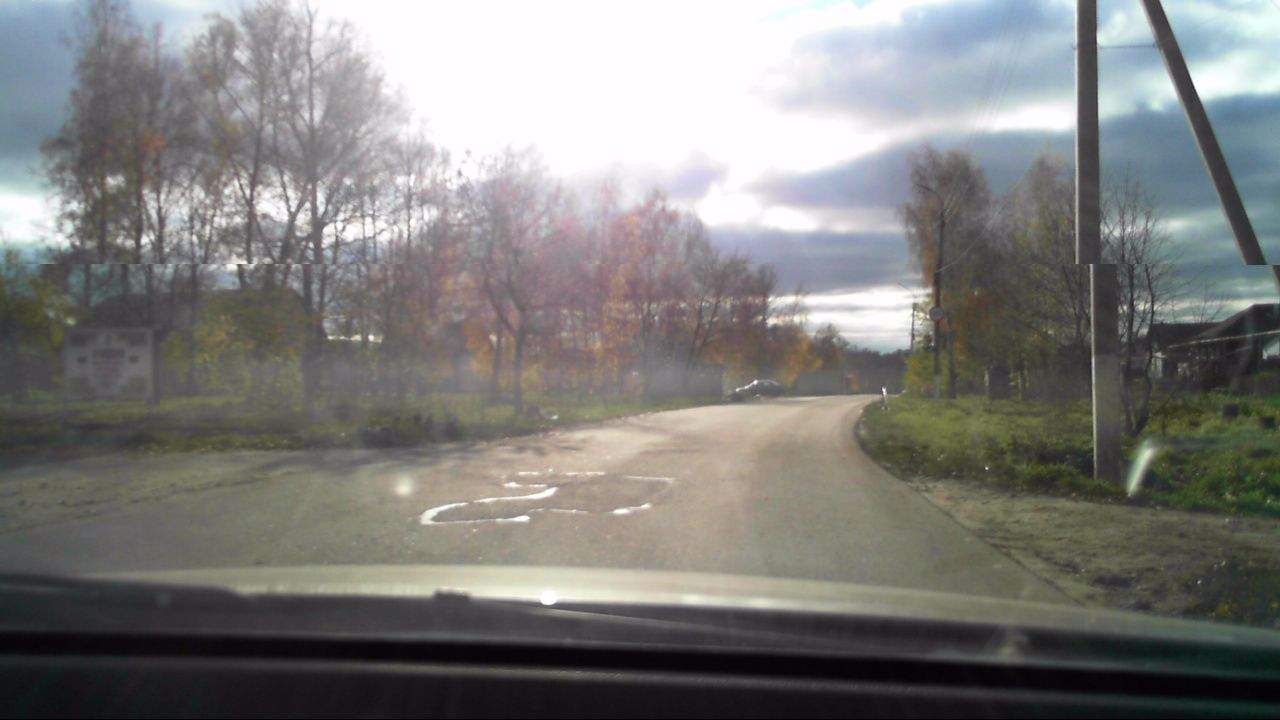speed_warning_40: (927, 305, 947, 323)
